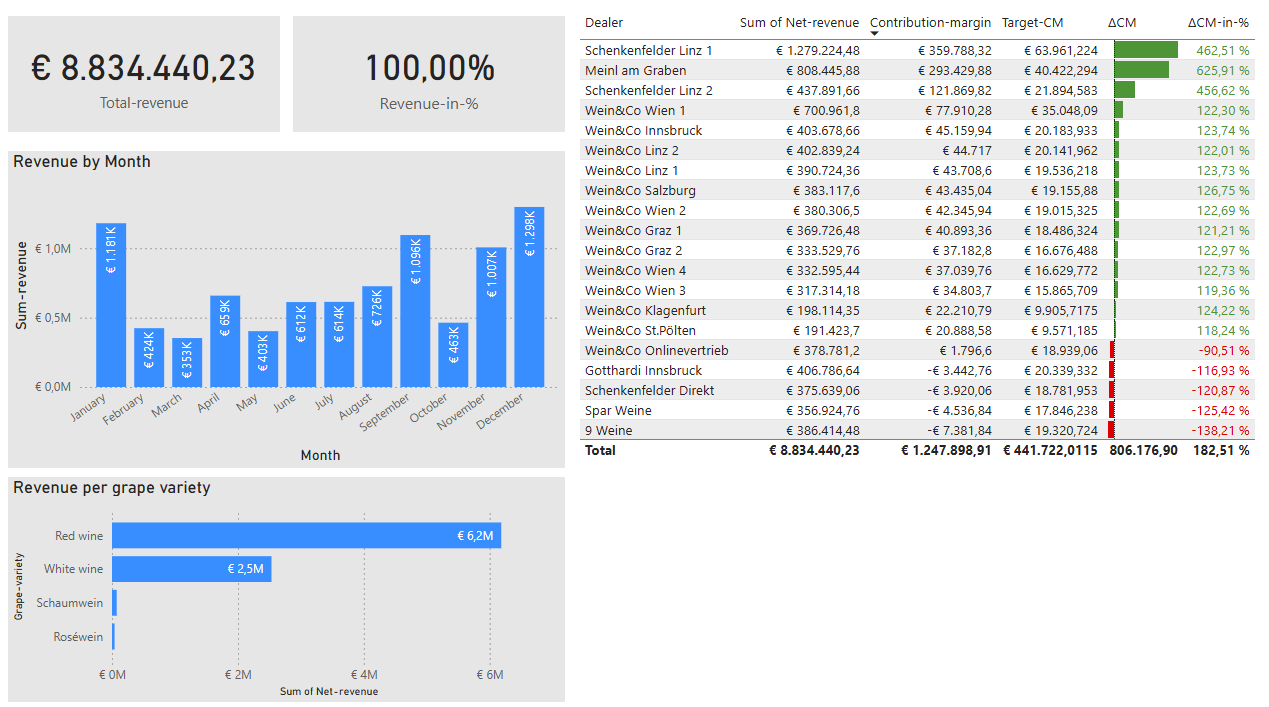

The dashboard page shown, as its layout file describes it:
{"tool":"powerbi","page":{"name":"Page 1","canvas":[1280,720],"ordinal":0},"visuals":[{"type":"card","fields":{"Values":["Orders.Total-revenue"]},"box":[14,24,272,116],"z":0},{"type":"tableEx","fields":{"Values":["Orders.Dealer","Sum(Orders.Net-revenue)","Orders.Contribution-margin","Orders.Target-CM","Orders.ΔCM","Orders.ΔCM-in-%"]},"box":[580,15,687,695],"z":1000},{"type":"card","fields":{"Values":["Orders.Revenue-in-%"]},"box":[299,24,272,116],"z":2000},{"type":"barChart","title":"Revenue per grape variety","fields":{"Category":["Orders.Grape-variety"],"Y":["Sum(Orders.Net-revenue)"]},"box":[14,485,557,225],"z":3000},{"type":"columnChart","title":"Revenue by Month","fields":{"Y":["Orders.Sum-revenue"],"Category":["Calendar table.Date.Variation.Date Hierarchy.Month"]},"box":[14,159,557,317],"z":4000}]}

Visuals, with their boxes in screenshot pixels (x1, y1, x2, y2), scaled from the page's 1280x720 canvas onto the 1269x707 screenshot:
card - Orders.Total-revenue: pyautogui.locateOnScreen(14, 24, 284, 137)
tableEx - Orders.Dealer x Sum(Orders.Net-revenue): pyautogui.locateOnScreen(575, 15, 1256, 697)
card - Orders.Revenue-in-%: pyautogui.locateOnScreen(296, 24, 566, 137)
"Revenue per grape variety" barChart: pyautogui.locateOnScreen(14, 476, 566, 697)
"Revenue by Month" columnChart: pyautogui.locateOnScreen(14, 156, 566, 467)
